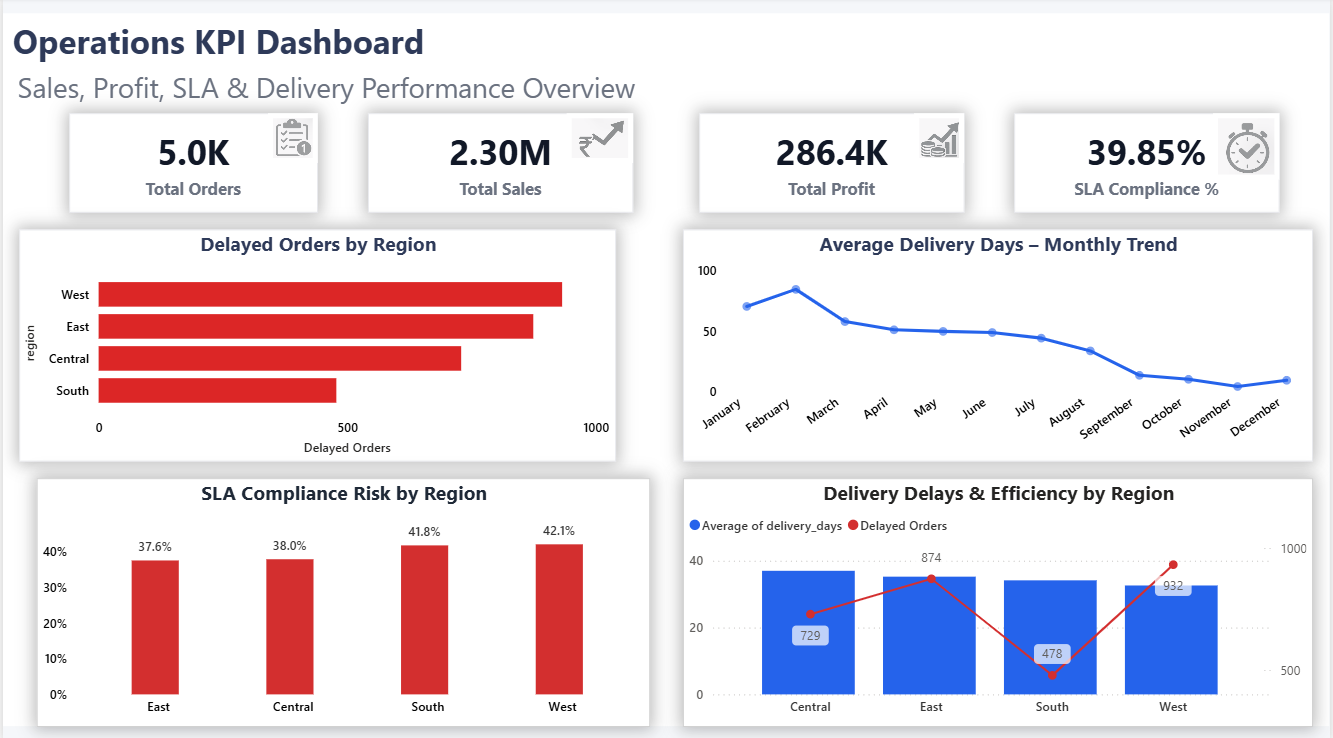

The page's visual inventory and layout, read from the dashboard file:
{"tool":"powerbi","page":{"name":"Page 1","canvas":[1280,720],"ordinal":0},"visuals":[{"type":"shape","box":[0,16,1280,688],"z":0},{"type":"textbox","box":[0,16,416,80],"z":1000},{"type":"textbox","box":[0,64,624,64],"z":2000},{"type":"card","fields":{"Values":["operations_data.Total Orders"]},"box":[64,112,240,96],"z":3000},{"type":"card","fields":{"Values":["operations_data.Total Sales"]},"box":[352,112,256,96],"z":4000},{"type":"card","fields":{"Values":["operations_data.Total Profit"]},"box":[672,112,256,96],"z":5000},{"type":"card","fields":{"Values":["operations_data.SLA Compliance %"]},"box":[976,112,256,96],"z":6000},{"type":"image","box":[256,112,48,48],"z":7000},{"type":"image","box":[544,112,64,48],"z":8000},{"type":"image","box":[880,112,48,48],"z":9000},{"type":"image","box":[1168,112,64,64],"z":10000},{"type":"clusteredBarChart","title":"Delayed Orders by Region","fields":{"Y":["operations_data.Delayed Orders"],"Category":["operations_data.region"]},"box":[16,224,576,224],"z":11000},{"type":"lineChart","title":"Average Delivery Days – Monthly Trend","fields":{"Category":["operations_data.order_date.Variation.Date Hierarchy.Month"],"Y":["Avg(operations_data.delivery_days)"]},"box":[656,224,608,224],"z":12000},{"type":"clusteredColumnChart","title":"SLA Compliance Risk by Region","fields":{"Category":["operations_data.region"],"Y":["operations_data.SLA Compliance %"]},"box":[32,464,592,240],"z":13000},{"type":"lineClusteredColumnComboChart","title":"Delivery Delays & Efficiency by Region","fields":{"Category":["operations_data.region"],"Y":["Avg(operations_data.delivery_days)"],"Y2":["operations_data.Delayed Orders"]},"box":[656,464,608,240],"z":14000}]}

Visuals, with their boxes in screenshot pixels (x1, y1, x2, y2), scaled from the page's 1280x720 canvas onto the 1333x738 screenshot:
shape: 0, 16, 1332, 722
textbox: 0, 16, 433, 98
textbox: 0, 66, 650, 131
card - operations_data.Total Orders: 67, 115, 317, 213
card - operations_data.Total Sales: 367, 115, 633, 213
card - operations_data.Total Profit: 700, 115, 966, 213
card - operations_data.SLA Compliance %: 1016, 115, 1283, 213
image: 267, 115, 317, 164
image: 567, 115, 633, 164
image: 916, 115, 966, 164
image: 1216, 115, 1283, 180
"Delayed Orders by Region" clusteredBarChart: 17, 230, 617, 459
"Average Delivery Days – Monthly Trend" lineChart: 683, 230, 1316, 459
"SLA Compliance Risk by Region" clusteredColumnChart: 33, 476, 650, 722
"Delivery Delays & Efficiency by Region" lineClusteredColumnComboChart: 683, 476, 1316, 722
